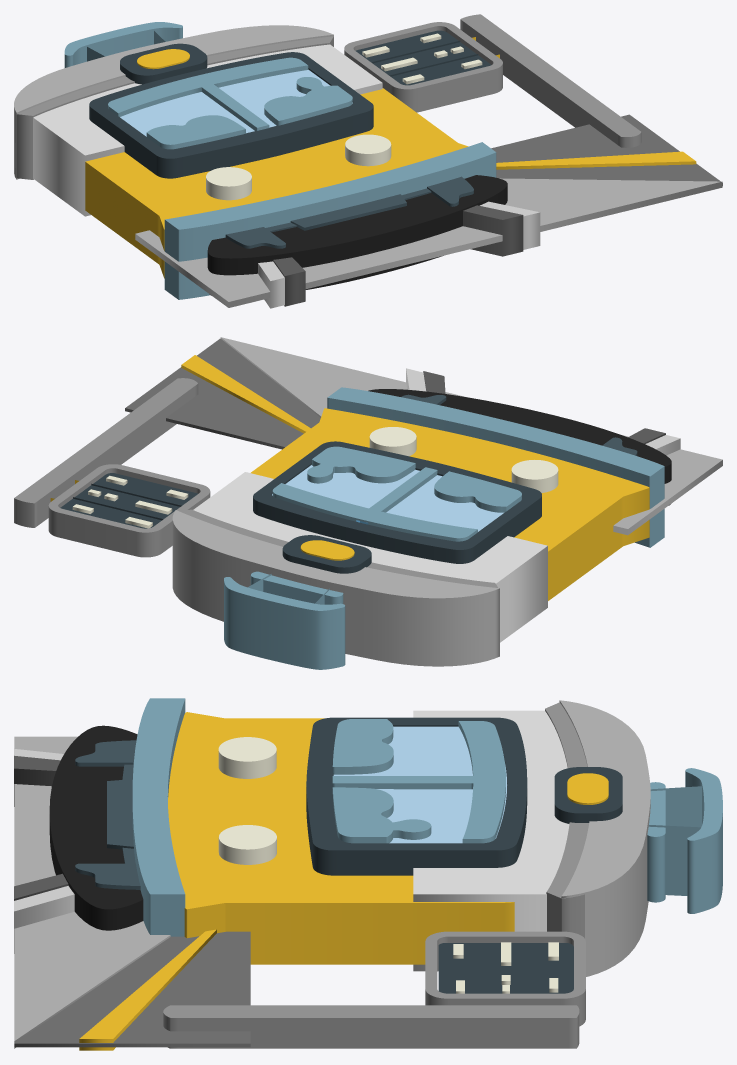
Rendered from emoji_u1f689.glb.
3 renders of one model, top to bottom at view 1: azimuth 30°, elevation 25°; view 2: azimuth 150°, elevation 25°; view 3: azimuth 270°, elevation 25°, orthographic. The views are drawn at different scales.
Visible parts, largest first — view 1: emoji_u1f689; view 2: emoji_u1f689; view 3: emoji_u1f689.
Part boxes in pixels (bbox=[...]): emoji_u1f689: bbox=[14, 14, 722, 308]; emoji_u1f689: bbox=[14, 337, 722, 669]; emoji_u1f689: bbox=[14, 698, 722, 1050].
Size of the model in its own units: 0.0339 by 0.0064 by 0.0333.
